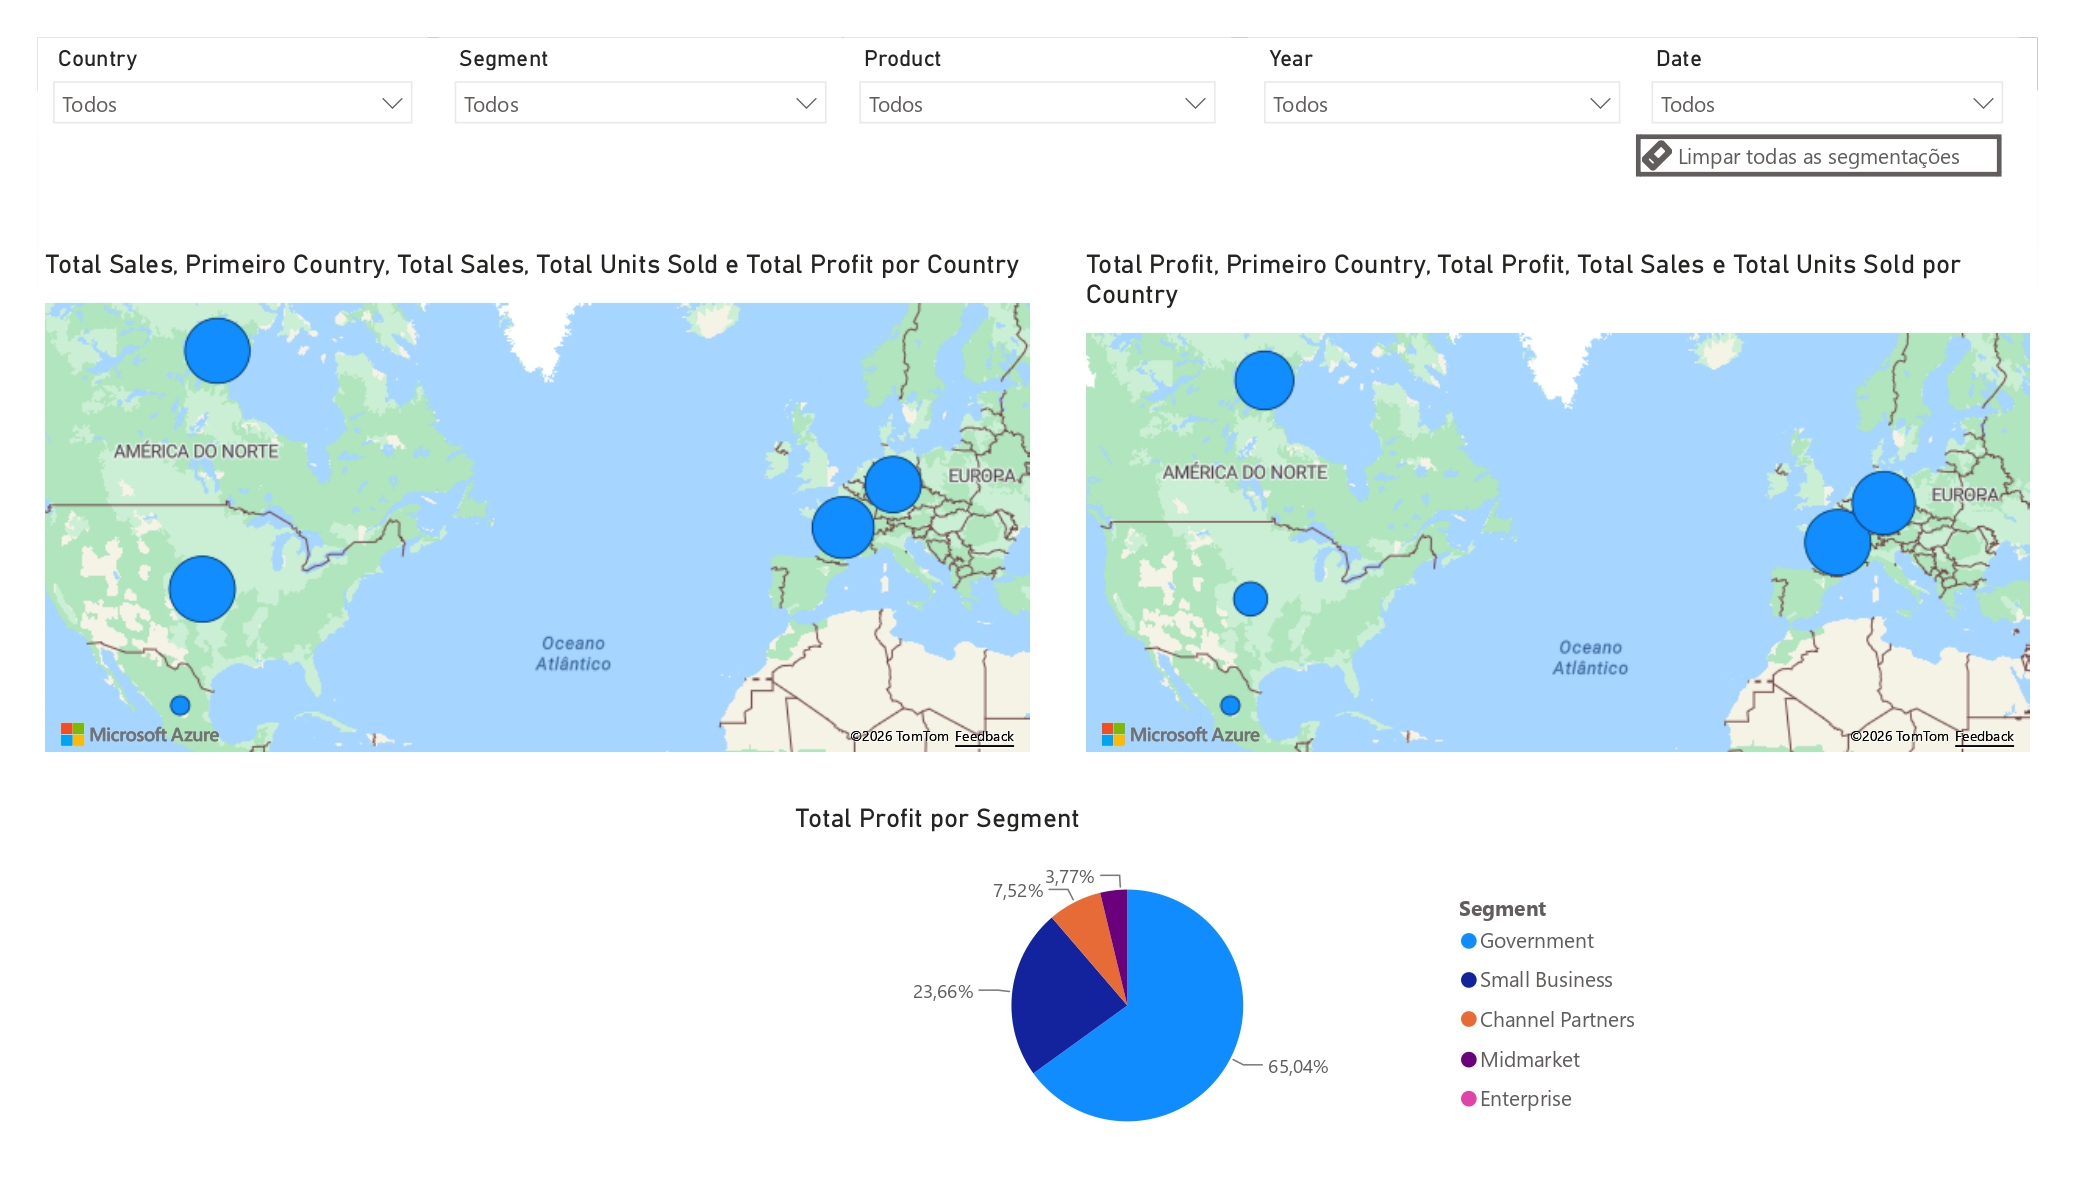

Layout of this report page (visuals, bound fields, positions):
{"tool":"powerbi","page":{"name":"Análise Geográfica","canvas":[1280,720],"ordinal":2},"visuals":[{"type":"azureMap","fields":{"Category":["Financials.Country"],"Size":["Financials.Total Sales"]},"box":[0,135.2,640,326.8],"z":0},{"type":"azureMap","fields":{"Category":["Financials.Country"],"Size":["Financials.Total Profit"]},"box":[666.3,135.2,613.7,326.8],"z":1000},{"type":"pieChart","fields":{"Category":["Financials.Segment"],"Y":["Financials.Total Profit"]},"box":[480.5,489.2,556.4,230.5],"z":2000},{"type":"slicer","fields":{"Values":["Financials.Country"]},"box":[0,0,250,62.2],"z":2001},{"type":"slicer","fields":{"Values":["Financials.Segment"]},"box":[256.8,0,257.8,62.2],"z":2002},{"type":"slicer","fields":{"Values":["Financials.Product"]},"box":[515.5,0,248,62.2],"z":2003},{"type":"slicer","fields":{"Values":["Financials.Year"]},"box":[775.2,0,248,79.8],"z":2004},{"type":"slicer","fields":{"Values":["Financials.Date"]},"box":[1023.2,0,245.1,74.9],"z":2005},{"type":"actionButton","box":[1023.2,62.2,233.4,27.2],"z":2006}]}

Visuals, with their boxes on the page's 1280x720 design canvas (x1, y1, x2, y2). These are canvas units, not pixel positions in the 2075x1200 screenshot, which may show the page scaled, cropped or inside an application window:
azureMap - Financials.Country x Financials.Total Sales: (0,135,640,462)
azureMap - Financials.Country x Financials.Total Profit: (666,135,1280,462)
pieChart - Financials.Segment x Financials.Total Profit: (480,489,1037,720)
slicer - Financials.Country: (0,0,250,62)
slicer - Financials.Segment: (257,0,515,62)
slicer - Financials.Product: (516,0,764,62)
slicer - Financials.Year: (775,0,1023,80)
slicer - Financials.Date: (1023,0,1268,75)
actionButton: (1023,62,1257,89)
